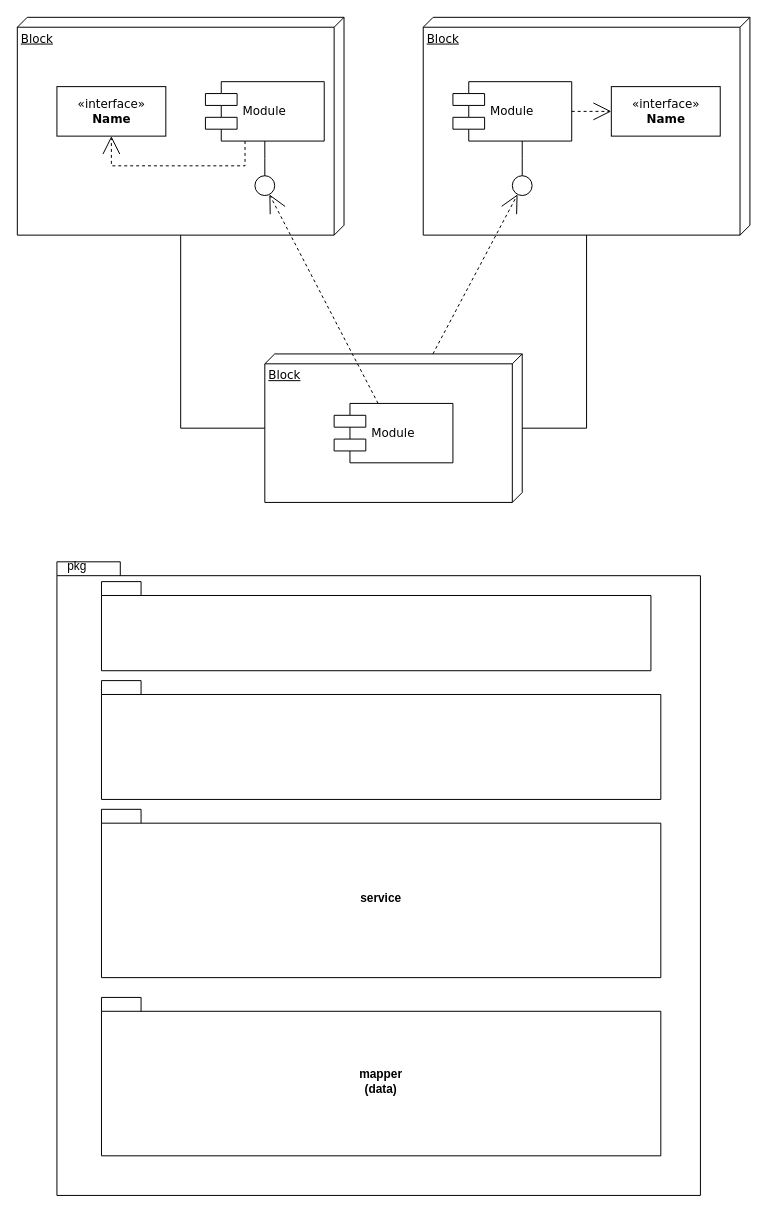
The diagram is 767 pixels wide and 1213 high, and some of its shapes have lost their labels. Each missing label, with the box of its shape:
controller: (100, 680, 661, 799)
view: (100, 581, 651, 671)
